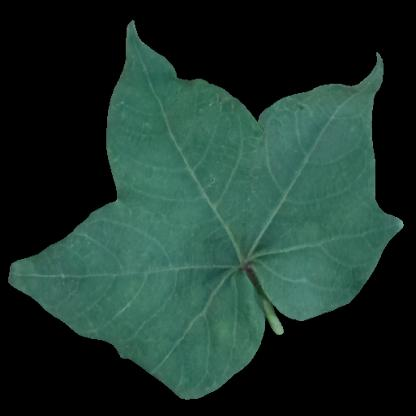healthy: (124, 120, 252, 374), (278, 103, 366, 233), (272, 235, 354, 307), (78, 208, 124, 328), (121, 81, 194, 115), (33, 247, 71, 293)
